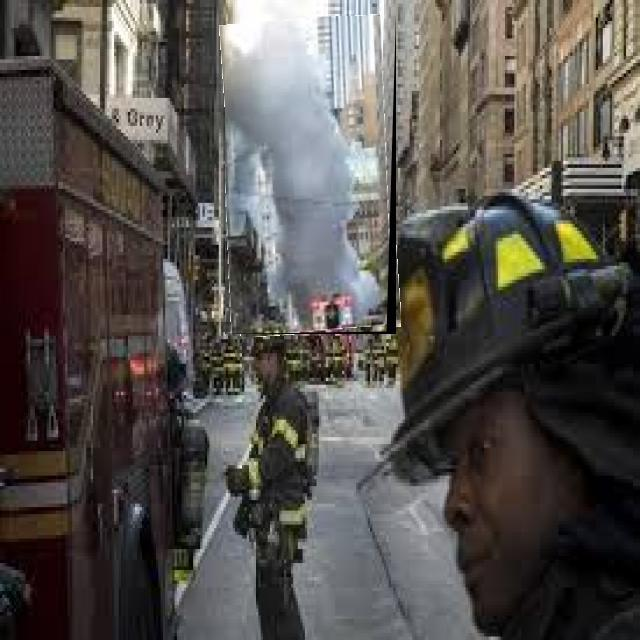smoke: (228, 26, 362, 210), (270, 214, 383, 296)
